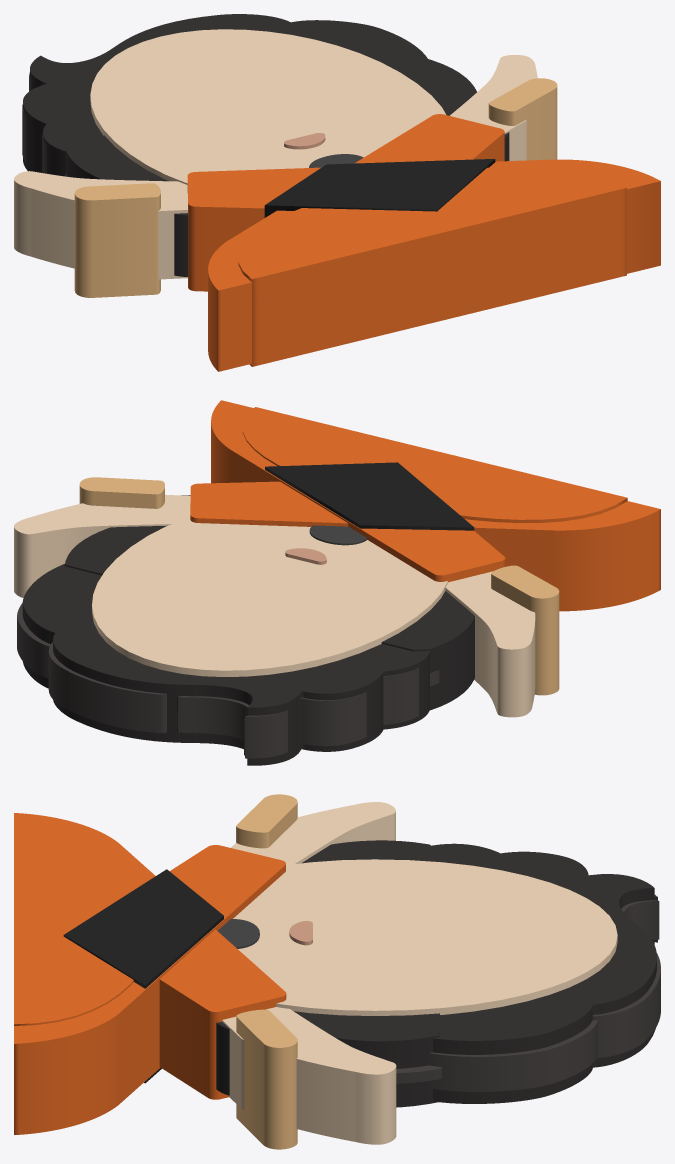
Rendered from emoji_u1f645_1f3fb.glb.
3 views of the same model, one above another, from view 1: azimuth 30°, elevation 25°; view 2: azimuth 150°, elevation 25°; view 3: azimuth 270°, elevation 25° (orthographic). The views are drawn at different scales.
Visible parts, largest first — view 1: emoji_u1f645_1f3fb; view 2: emoji_u1f645_1f3fb; view 3: emoji_u1f645_1f3fb.
Boxes of the visible parts, box(x1,y1,x2,y2) form: emoji_u1f645_1f3fb: box(14, 14, 660, 371); emoji_u1f645_1f3fb: box(14, 400, 660, 765); emoji_u1f645_1f3fb: box(14, 794, 660, 1149).
Bounding box in the file's own units: 0.0331 × 0.006 × 0.0334.
